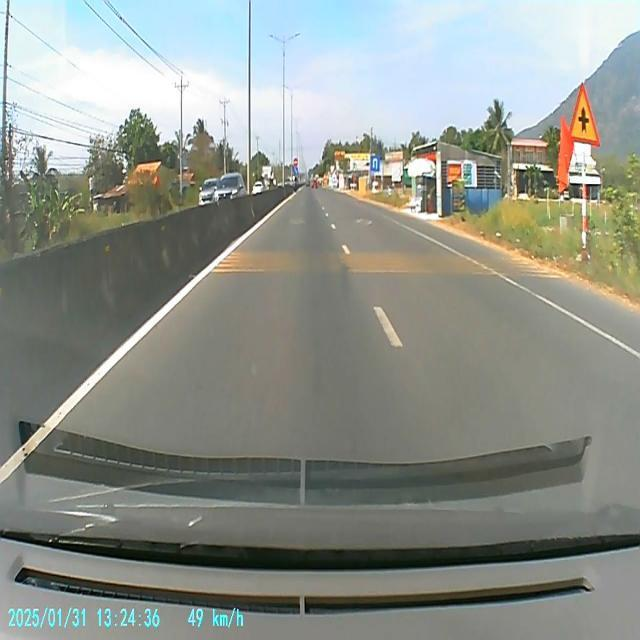102-cam-di-nguoc-chieu: (293, 156, 298, 166)
207-giao-nhau-voi-duong-khong-uu-tien: (569, 80, 601, 149)
302a-huong-phai-di-vong-chuong-ngai-vat-1: (294, 166, 298, 175)
